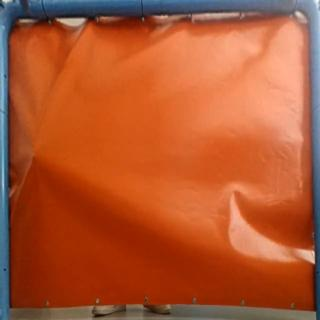Hit-hRxx: (30, 146, 42, 163)
